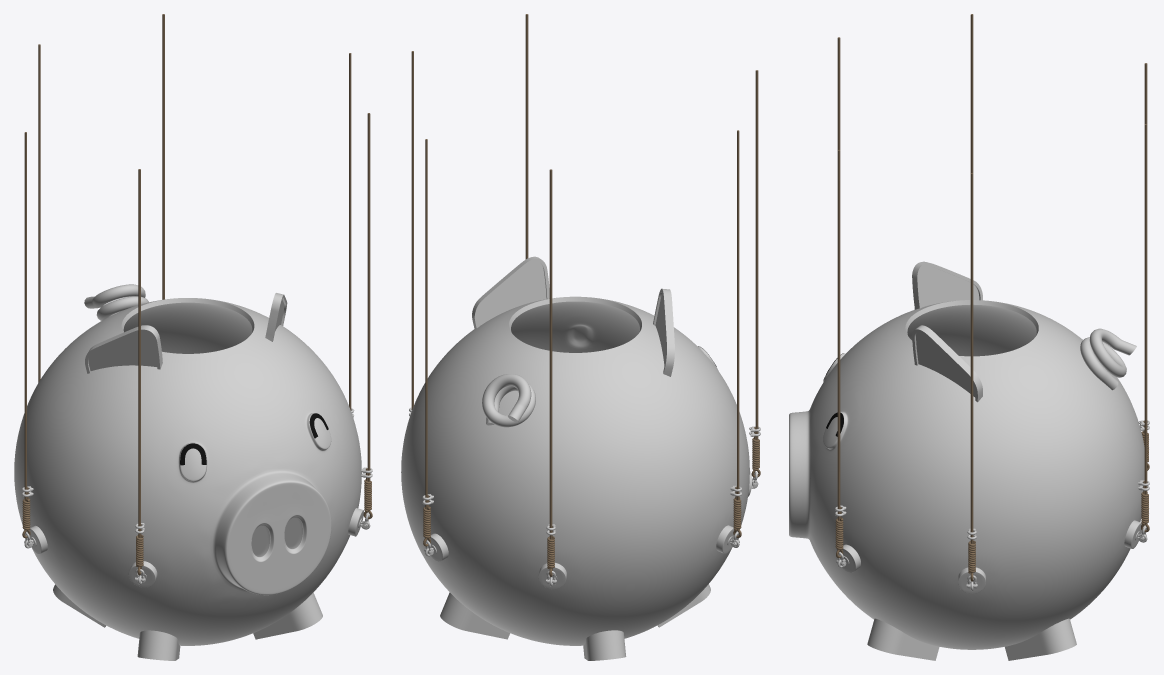
Rendered from SquidBank_Model_01.fbx.
3 renders of one model, left to right at view 1: azimuth 30°, elevation 25°; view 2: azimuth 150°, elevation 25°; view 3: azimuth 270°, elevation 25°, orthographic.
Parts seen in each view (by area): view 1: Body, Ropes, Ears, Feet, Tail, Caps; view 2: Body, Ropes, Ears, Feet, Tail, Caps; view 3: Body, Ropes, Ears, Feet, Tail, Caps.
Part boxes in pixels (x1,y1,x2,y2): Body: (14, 298, 361, 645); Ropes: (22, 14, 372, 575); Ears: (85, 293, 287, 373); Feet: (53, 584, 322, 660); Tail: (84, 284, 148, 320); Caps: (27, 508, 363, 587); Body: (401, 296, 749, 645); Ropes: (409, 14, 760, 576); Ears: (472, 256, 674, 376); Feet: (440, 584, 710, 660); Tail: (482, 374, 535, 427); Caps: (427, 471, 752, 589); Body: (789, 300, 1144, 649); Ropes: (835, 14, 1149, 581); Ears: (912, 261, 982, 402); Feet: (867, 618, 1076, 660); Tail: (1080, 328, 1136, 390); Caps: (836, 520, 1141, 593).
Size of the model in its own units: 219 by 340 by 206.
